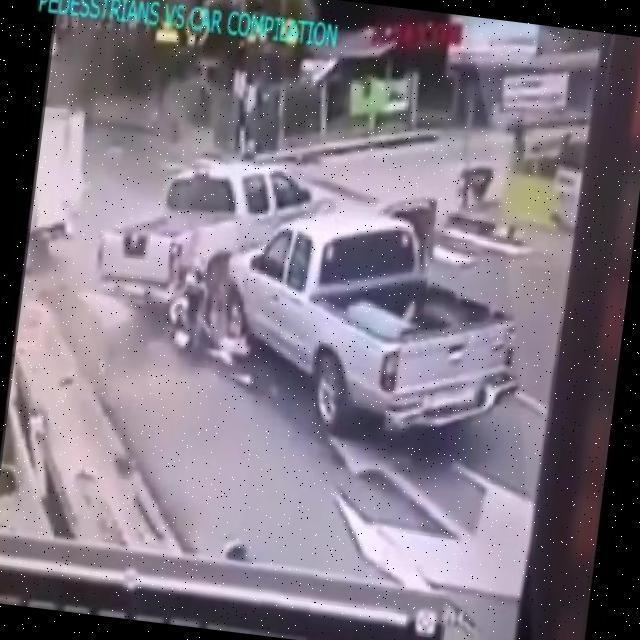accident: (85, 172, 347, 368)
